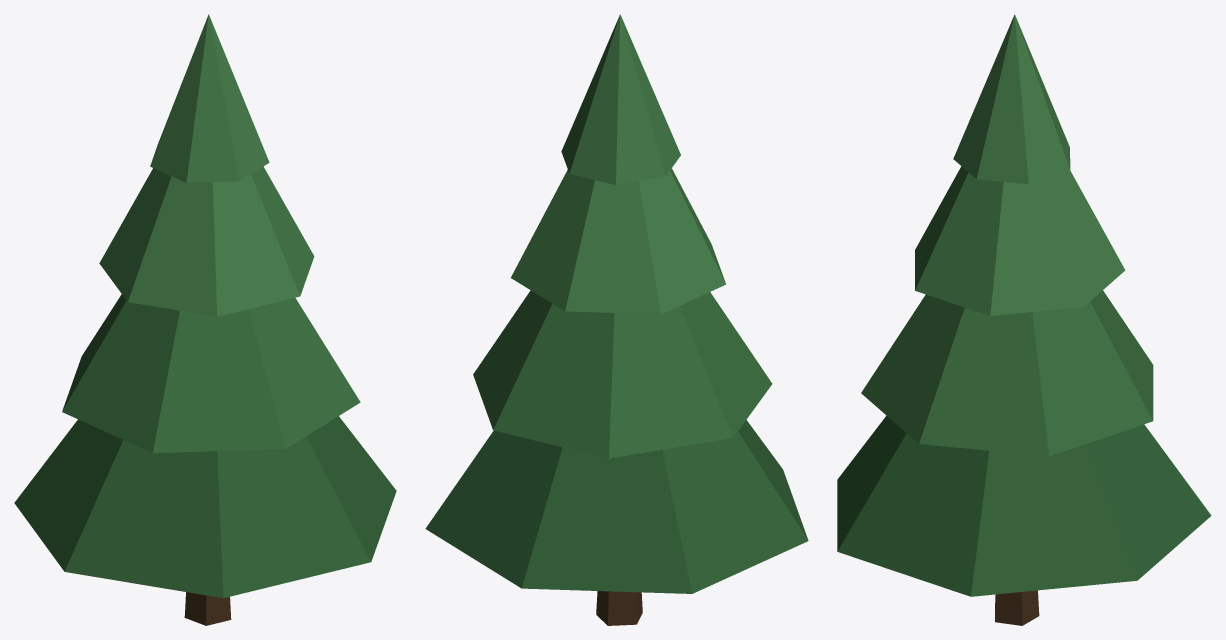
File: nature.pine.glb
3 renders of one model, left to right at view 1: azimuth 30°, elevation 25°; view 2: azimuth 150°, elevation 25°; view 3: azimuth 270°, elevation 25°, orthographic.
Visible parts, largest first — view 1: nature-pine; view 2: nature-pine; view 3: nature-pine.
Part boxes in pixels (x1,y1,x2,y2): nature-pine: [14, 14, 396, 625]; nature-pine: [425, 14, 808, 625]; nature-pine: [837, 14, 1211, 625].
Size of the model in its own units: 3.12 by 5.4 by 3.04.
